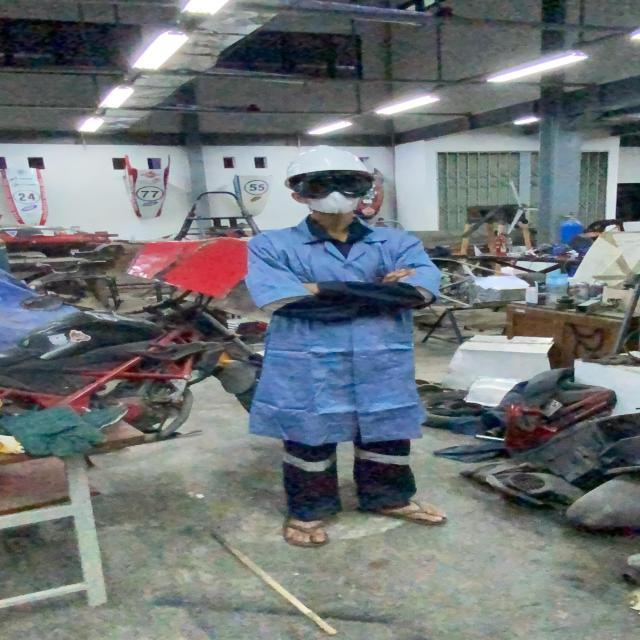glasses: (288, 172, 380, 198)
